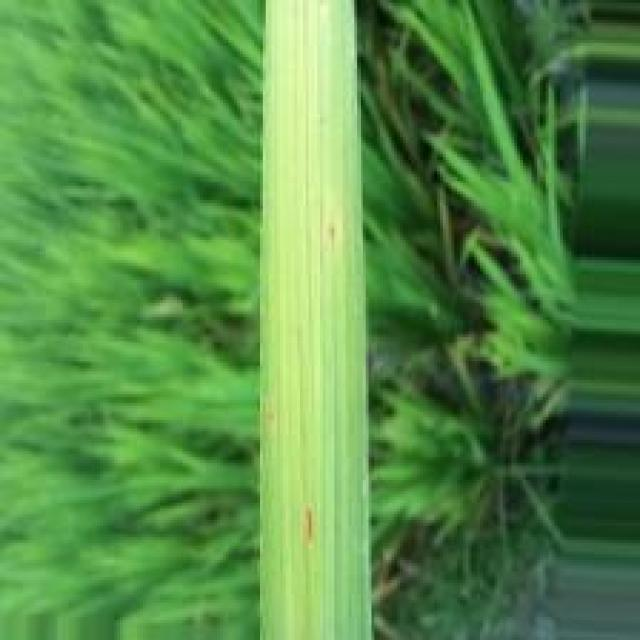Brown_Spot: (302, 503, 320, 547)
